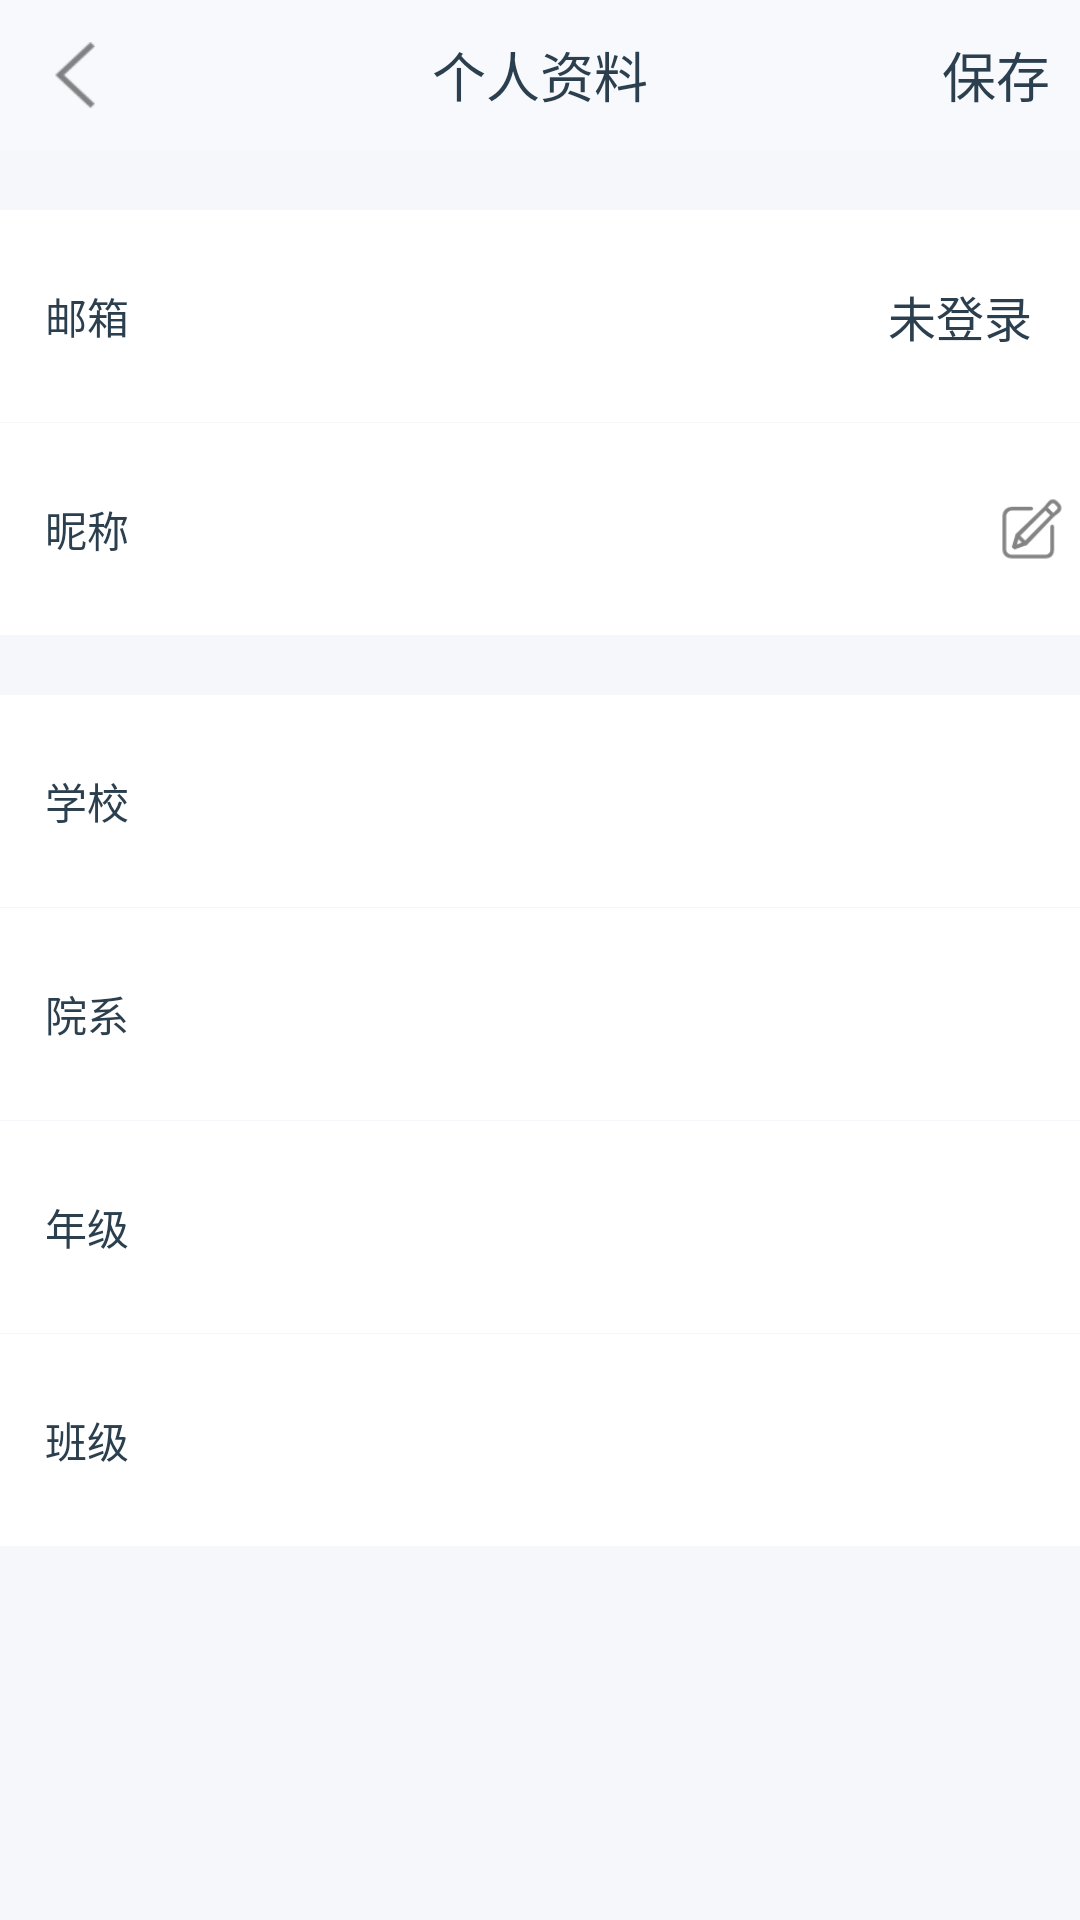

Icons on this 1080 × 1920 Android screen, each with the point to tap as (x=x, y=y):
back: (x=75, y=75)
